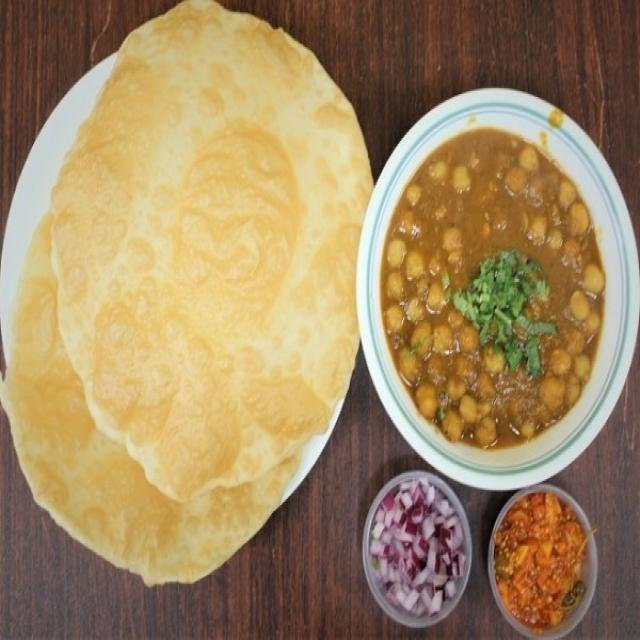Bhatura: (11, 0, 369, 588)
Chole: (378, 133, 606, 448)
